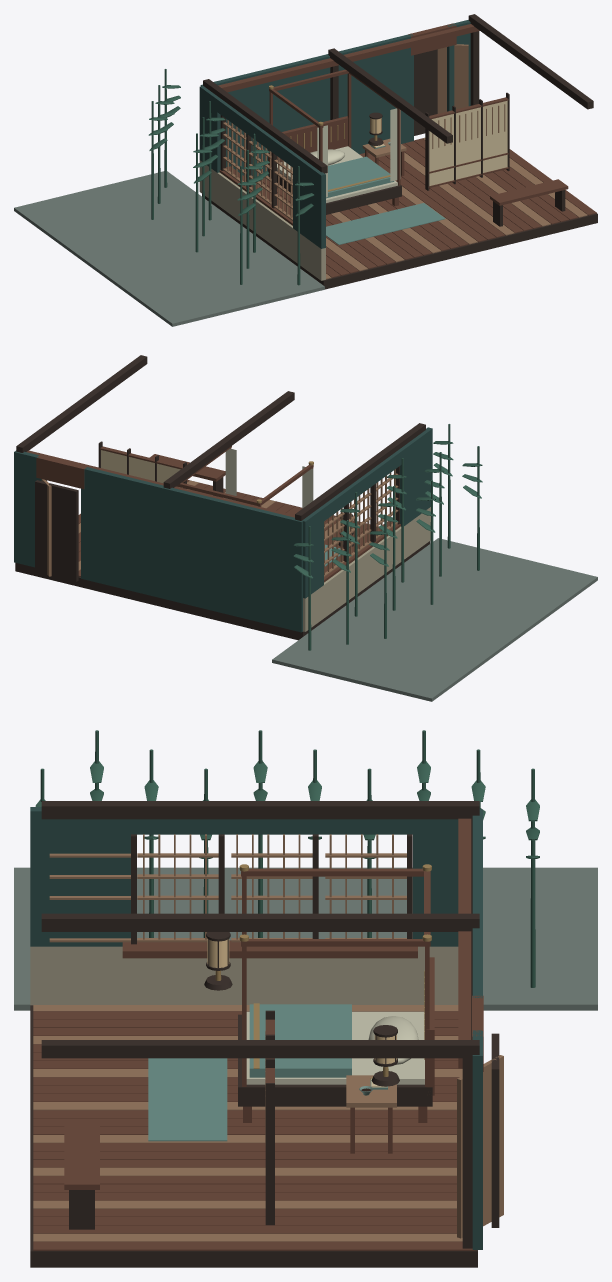
Rendered from bedroom-r1.glb.
3 views of the same model, one above another, from view 1: azimuth 30°, elevation 25°; view 2: azimuth 150°, elevation 25°; view 3: azimuth 270°, elevation 25° (orthographic). The views are drawn at different scales.
Parts seen in each view (by area): view 1: courtyard-ground, back-wall-left, ceiling-beam (×3), left-wall-under-window, foundation, rear-beam, rug, left-wall-over-window, left-wall-near, folded-quilt, screen-panel-1, ajar-door (+37 smaller); view 2: courtyard-ground, back-wall-left, ceiling-beam (×3), left-wall-under-window, door-recess, foundation, back-wall-right, left-wall-over-window, left-wall-near, door-lintel, left-wall-rear, rear-beam (+6 smaller); view 3: courtyard-ground, ceiling-beam (×3), left-wall-under-window, left-wall-near, foundation, left-wall-over-window, rug, folded-quilt, floorboard-29, window-sill, floorboard-28, left-wall-rear (+42 smaller).
Boxes of the visible parts, x1,y1,x2,y2 form: courtyard-ground: (14,171,324,326); back-wall-left: (200,34,413,177); ceiling-beam (×3): (203,14,593,173); left-wall-under-window: (199,160,325,280); foundation: (202,194,597,289); rear-beam: (218,24,479,92); rug: (326,203,445,244); left-wall-over-window: (199,86,325,188); left-wall-near: (293,168,325,248); folded-quilt: (326,156,394,198); screen-panel-1: (456,107,480,179); ajar-door: (437,44,468,113); courtyard-ground: (272,538,597,701); back-wall-left: (81,467,303,632); ceiling-beam (×3): (16,355,425,520); left-wall-under-window: (303,507,430,631); door-recess: (35,480,78,581); foundation: (15,480,430,640); back-wall-right: (14,450,46,567); left-wall-over-window: (302,427,432,534); left-wall-near: (400,442,432,526); door-lintel: (36,455,86,489); left-wall-rear: (303,522,323,598); rear-beam: (26,450,294,517); courtyard-ground: (14,867,597,1010); ceiling-beam (×3): (41,801,479,1058); left-wall-under-window: (30,946,458,1005); left-wall-near: (30,834,130,946); foundation: (30,1005,477,1267); left-wall-over-window: (30,807,458,834); rug: (148,1058,227,1141); folded-quilt: (249,1004,351,1077); floorboard-29: (33,1241,474,1250); window-sill: (122,940,417,958); floorboard-28: (33,1233,462,1241); left-wall-rear: (413,834,458,946).
Size of the model in its own units: 14.1 by 3.95 by 9.
